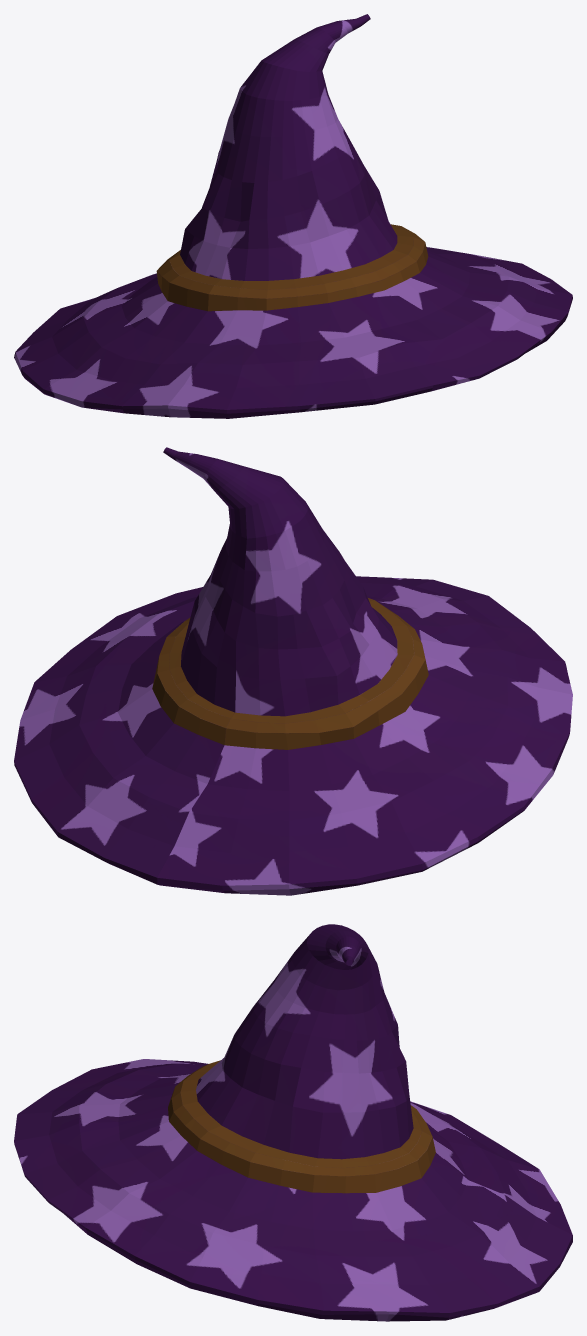
The model's file is Cat Hat New.fbx.
3 renders of one model, top to bottom at view 1: azimuth 30°, elevation 25°; view 2: azimuth 150°, elevation 25°; view 3: azimuth 270°, elevation 25°, orthographic.
Parts seen in each view (by area): view 1: Hat; view 2: Hat; view 3: Hat.
Boxes of the visible parts, bbox=[...] form: Hat: bbox=[14, 14, 572, 418]; Hat: bbox=[14, 447, 572, 895]; Hat: bbox=[14, 924, 572, 1321].
Bounding box in the file's own units: 295 × 193 × 291.
1 material, 1 textured.
